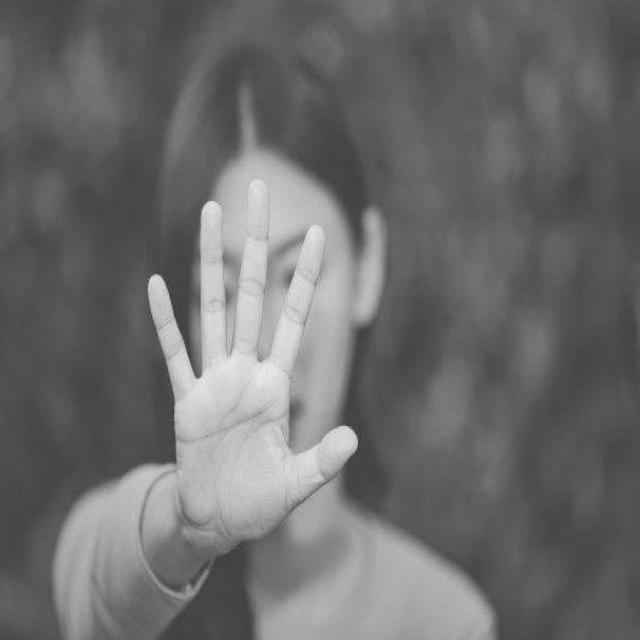stop: (144, 173, 362, 558)
